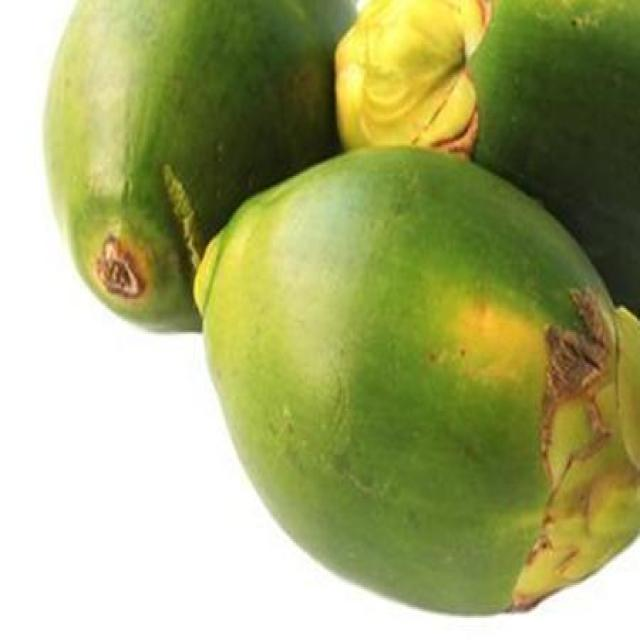good: (192, 147, 639, 618), (41, 0, 358, 336), (334, 0, 639, 321)
